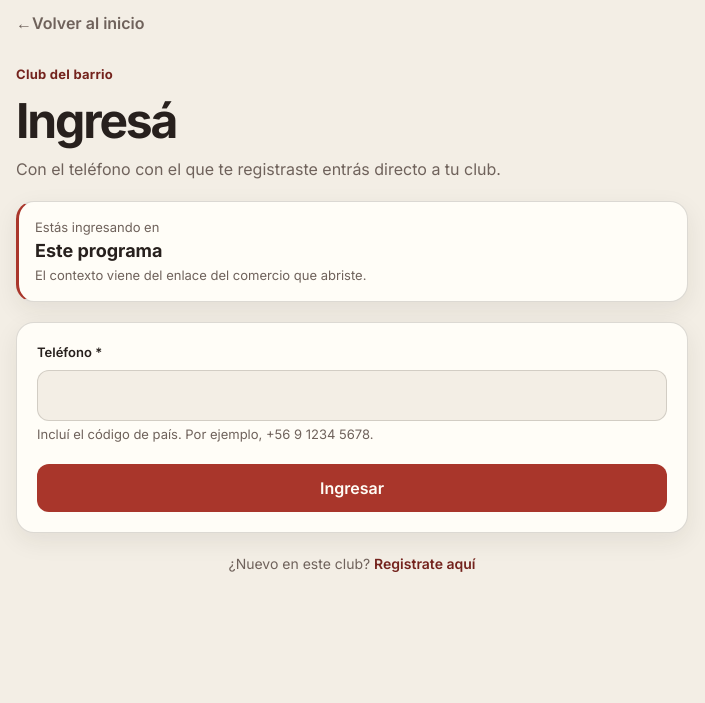
Test case: login page behavior › reports a 5xx as a connectivity problem, not as an unregistered phone
Type "+56912345678" into the field labelled "Teléfono *" at (352, 396), box [37, 370, 667, 421]
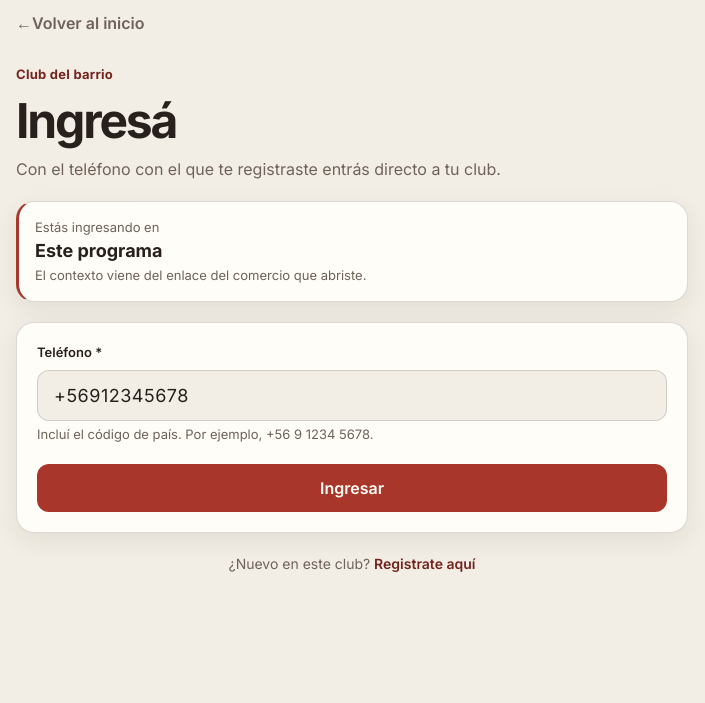
Click the button "Ingresar" at (352, 488), box [37, 464, 667, 512]
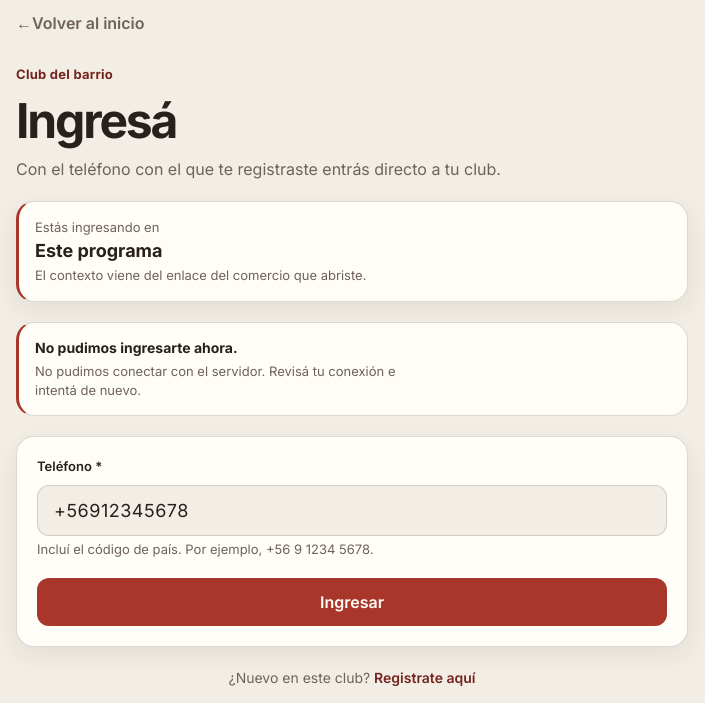
Expected: the text "No pudimos conectar con el servidor." is shown, [35, 363, 396, 398]
